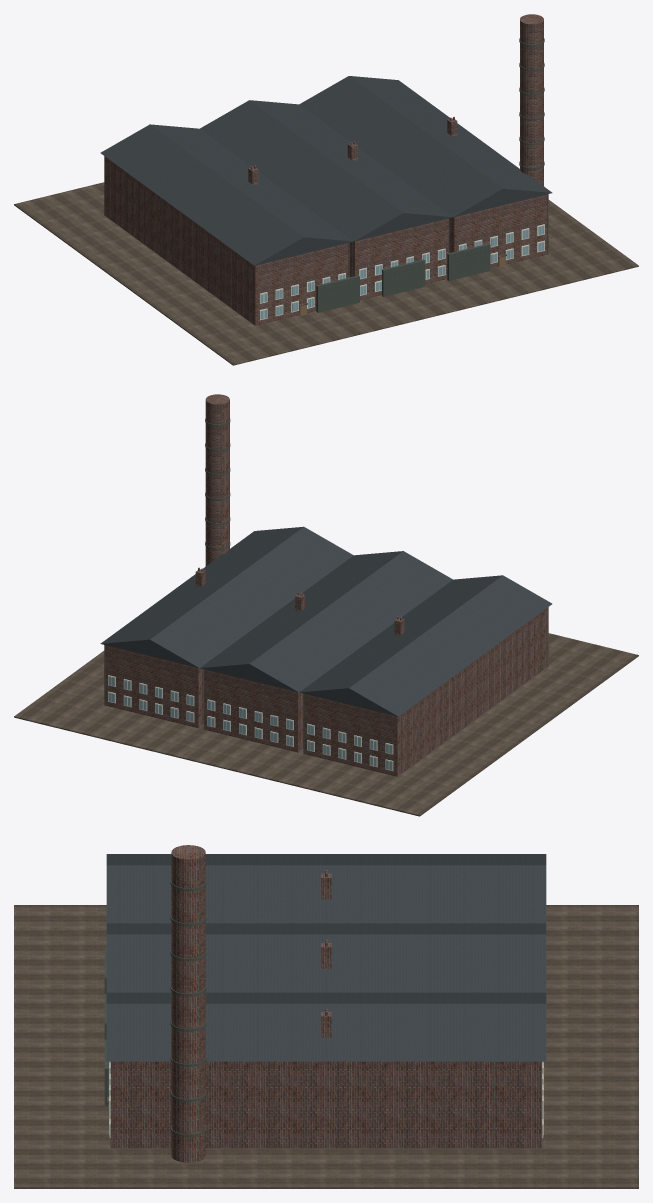
The model's file is britainfactory.gltf.
3 renders of one model, top to bottom at view 1: azimuth 30°, elevation 25°; view 2: azimuth 150°, elevation 25°; view 3: azimuth 270°, elevation 25°, orthographic. The views are drawn at different scales.
Visible parts, largest first — view 1: britainfactory; view 2: britainfactory; view 3: britainfactory.
Boxes of the visible parts, bbox=[...] form: britainfactory: bbox=[14, 14, 638, 365]; britainfactory: bbox=[14, 394, 638, 816]; britainfactory: bbox=[14, 845, 638, 1188].
Size of the model in its own units: 155 by 78 by 145.
Materials: 7 (4 with a texture image).
